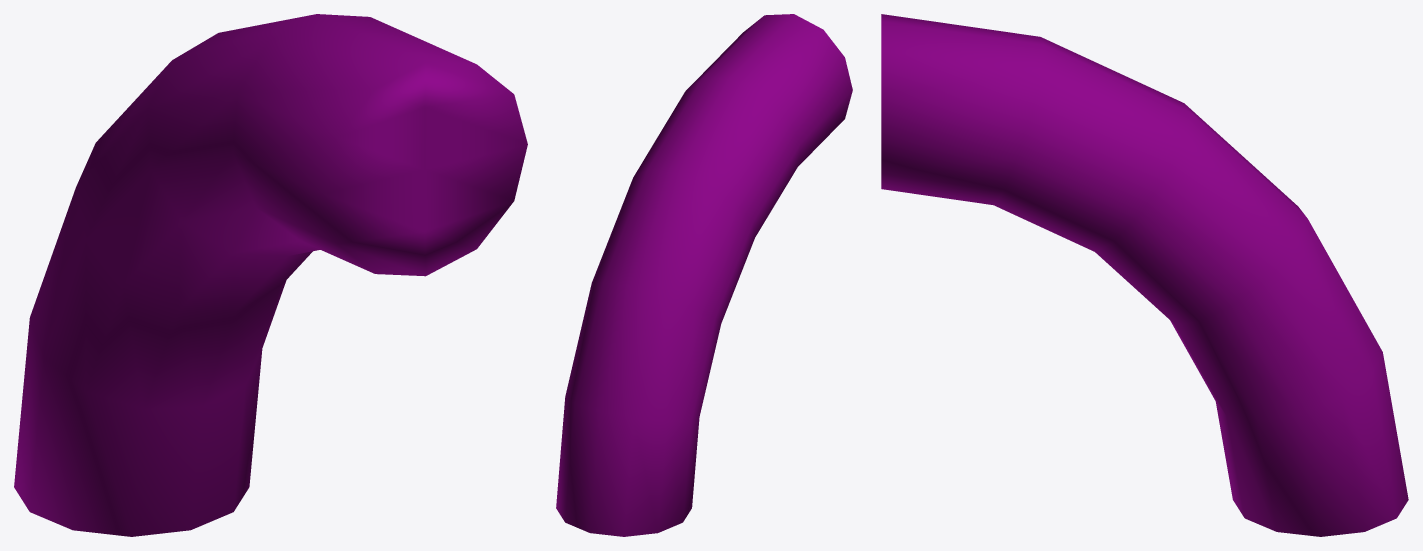
File: Pipe_Twist.fbx
The picture shows the model from 3 angles, left to right: view 1: azimuth 30°, elevation 25°; view 2: azimuth 150°, elevation 25°; view 3: azimuth 270°, elevation 25°; orthographic projection. The views are drawn at different scales.
Visible parts, largest first — view 1: Pipe_Twist; view 2: Pipe_Twist; view 3: Pipe_Twist.
Boxes of the visible parts, bbox=[...] form: Pipe_Twist: bbox=[14, 14, 527, 536]; Pipe_Twist: bbox=[556, 14, 852, 536]; Pipe_Twist: bbox=[881, 14, 1408, 536].
Size of the model in its own units: 34.81 by 104 by 104.
